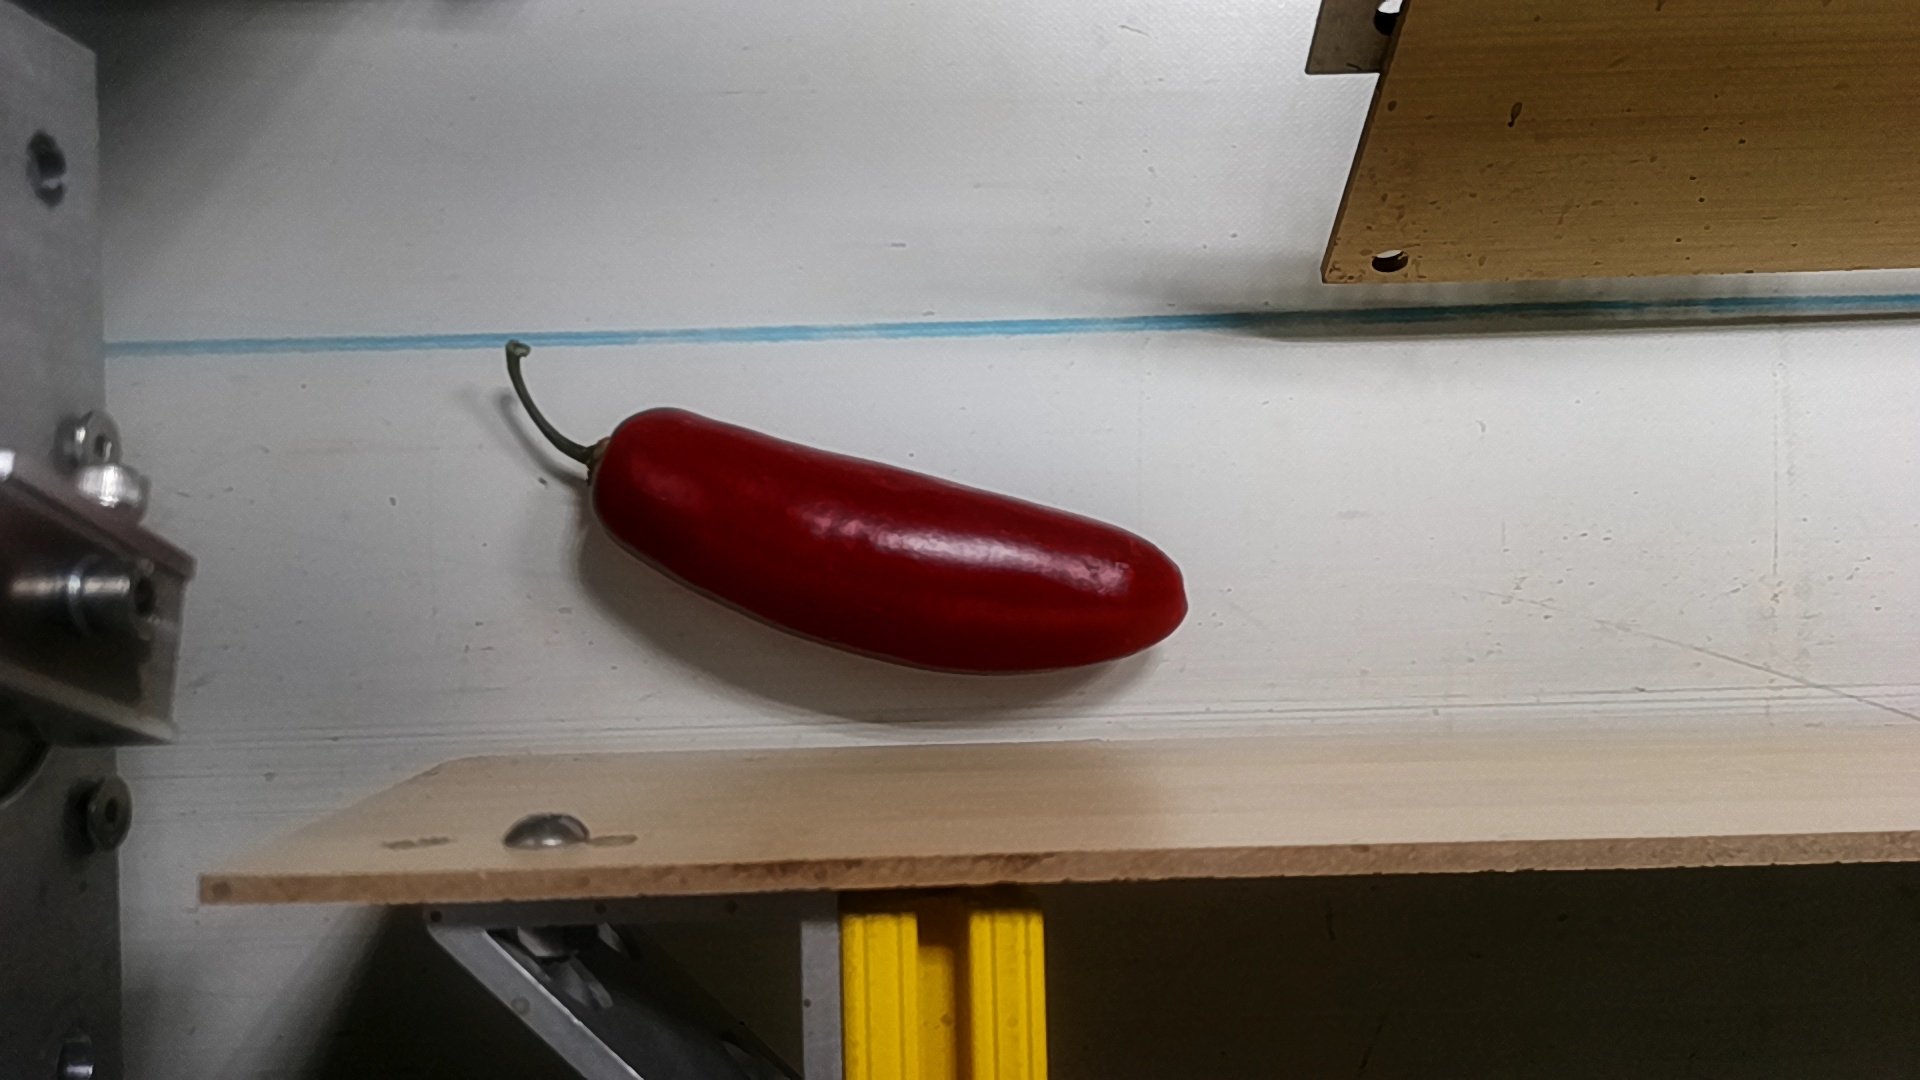Cut Point: (564, 392, 667, 558)
